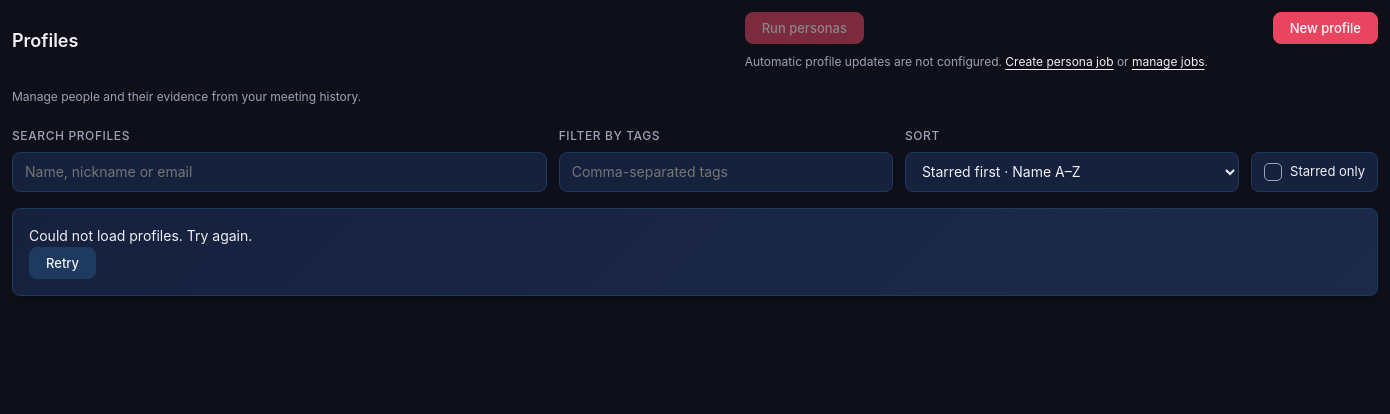
Test: ProfilesIndexPage › shows reader failures separately from an empty list and supports retry
The width and height of the screenshot is (1390, 414).
Expected: the message shows "Could not load profiles. Try again.", [29, 227, 252, 244]
Click the button "Retry". click: (62, 263)
box: [29, 247, 96, 279]
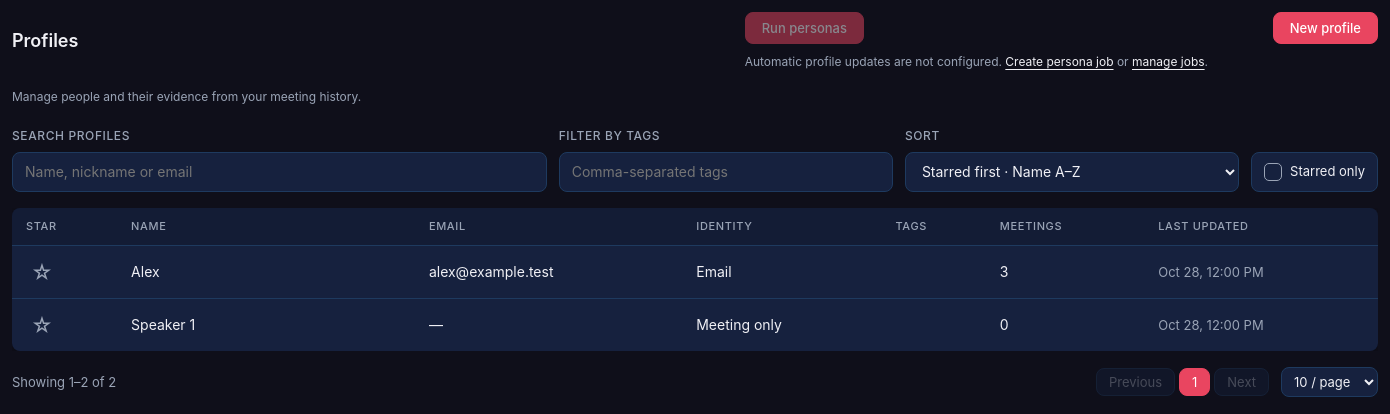
Expected: the text "Alex" is shown, [117, 246, 415, 299]
